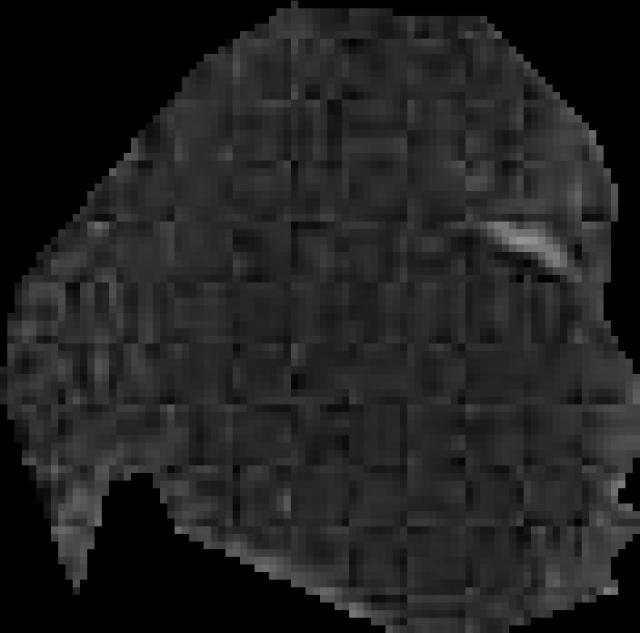tumor_good_chance: (0, 1, 640, 633)
